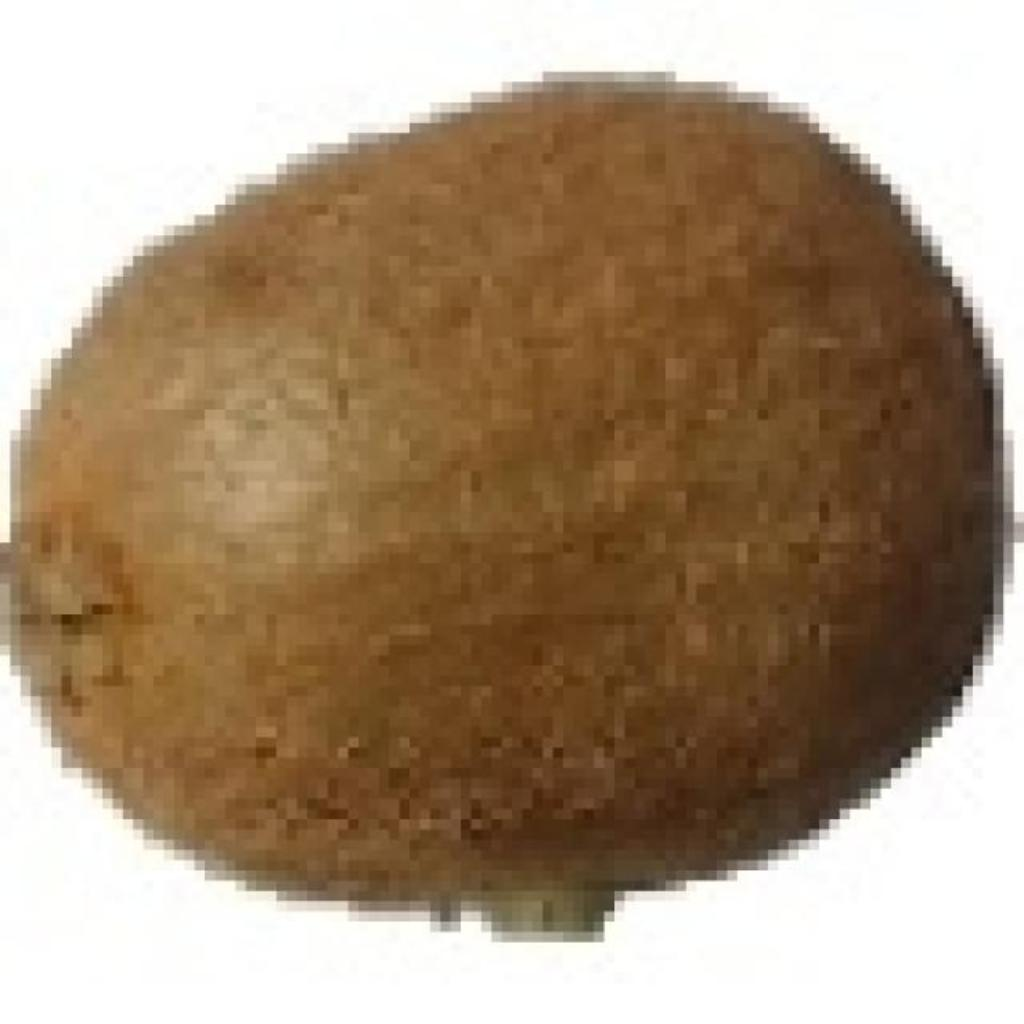kiwi: (10, 72, 983, 911)
